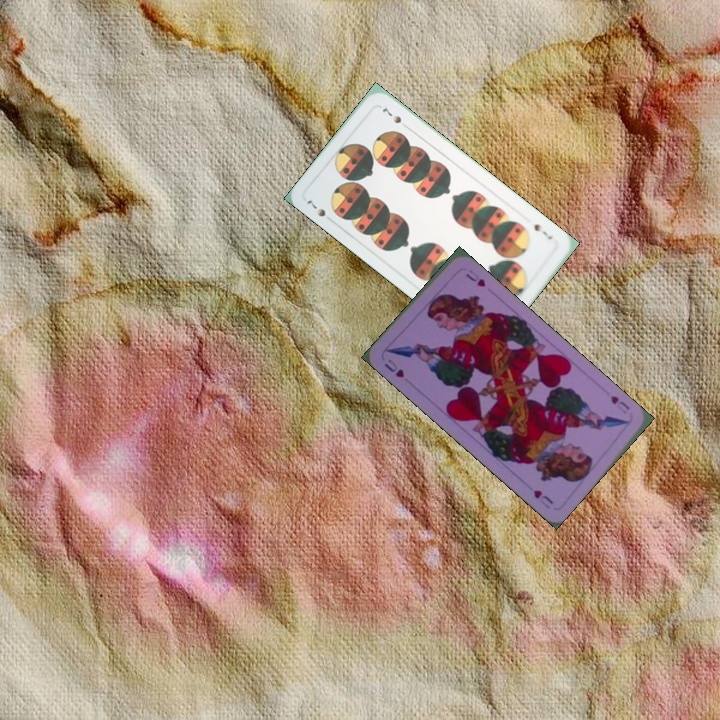HU: (380, 355, 407, 380), (606, 391, 632, 416)
S7: (302, 196, 336, 225), (530, 220, 555, 242)
